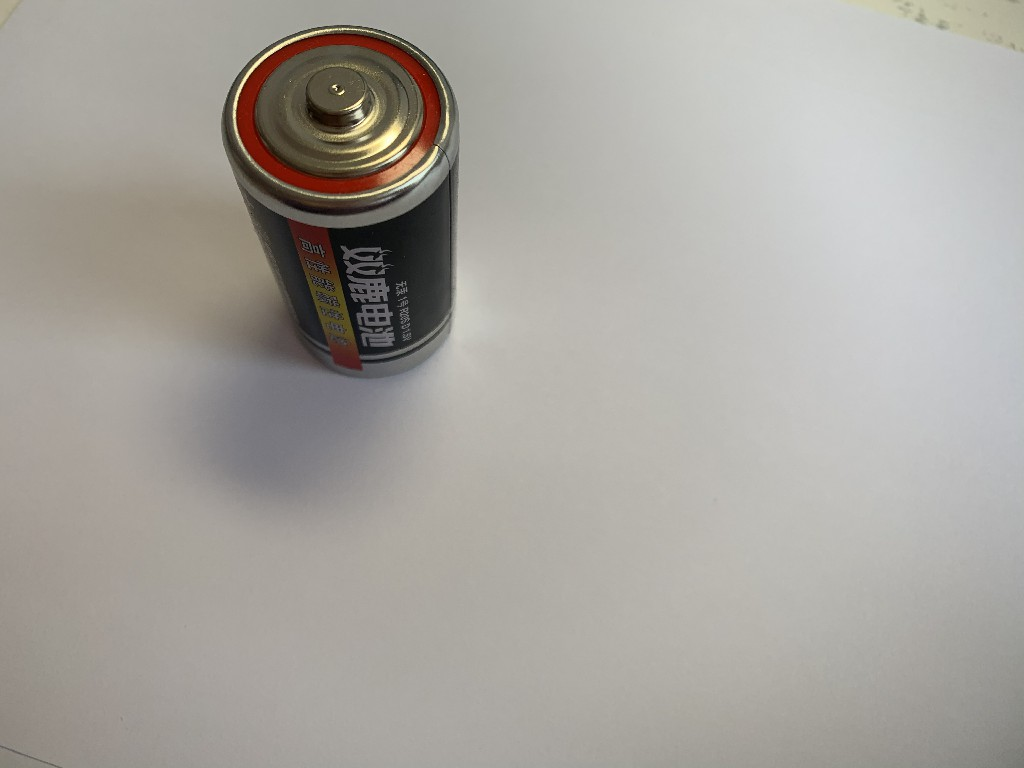charge: (218, 19, 464, 383)
